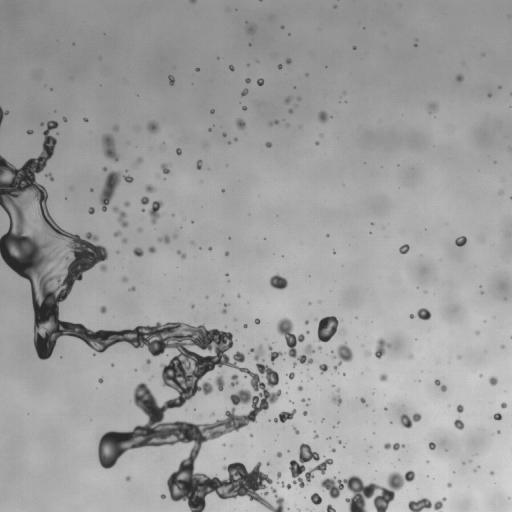droplet: (289, 443, 333, 487), (317, 316, 339, 342), (333, 343, 353, 369), (374, 338, 390, 358), (400, 413, 421, 428), (269, 274, 287, 289), (268, 346, 282, 363), (417, 308, 431, 320), (147, 121, 159, 133), (215, 375, 224, 391), (310, 493, 321, 505), (454, 418, 464, 430), (318, 111, 328, 122), (455, 236, 466, 246), (331, 394, 341, 405), (236, 118, 245, 129), (157, 235, 169, 243), (230, 374, 238, 386), (428, 102, 437, 112), (160, 164, 169, 174), (399, 244, 409, 253), (133, 247, 143, 256), (319, 364, 328, 373), (145, 184, 155, 192), (489, 376, 497, 385), (325, 504, 335, 511), (141, 196, 149, 204), (493, 413, 502, 420), (168, 75, 174, 85), (247, 26, 255, 33), (196, 160, 202, 169), (456, 74, 463, 81), (241, 89, 248, 96), (46, 173, 53, 180), (287, 372, 294, 379), (380, 374, 387, 381), (456, 405, 463, 412), (148, 246, 156, 252), (429, 442, 435, 450), (257, 78, 263, 85), (88, 207, 94, 214), (100, 306, 106, 313), (100, 265, 106, 271), (176, 148, 181, 155), (114, 231, 121, 236), (286, 58, 291, 64), (285, 97, 290, 103), (265, 142, 271, 147), (136, 158, 142, 163), (129, 286, 135, 291), (254, 318, 259, 324), (364, 350, 370, 355), (501, 402, 506, 408), (276, 452, 282, 457), (229, 65, 234, 70), (245, 78, 250, 83), (124, 201, 129, 206), (122, 238, 127, 243), (122, 276, 127, 281), (360, 398, 365, 403), (27, 130, 33, 134), (277, 472, 281, 478), (278, 64, 282, 69), (409, 314, 414, 318), (146, 359, 150, 364), (297, 386, 302, 390), (314, 433, 318, 438), (126, 476, 130, 481), (160, 494, 165, 498), (242, 106, 246, 110), (210, 109, 214, 113), (114, 126, 118, 130), (315, 141, 319, 145), (103, 167, 107, 171), (317, 346, 321, 350), (98, 378, 102, 382), (301, 398, 305, 402), (303, 411, 307, 415), (447, 483, 451, 487), (289, 109, 292, 113), (63, 117, 66, 121), (223, 133, 226, 137), (341, 329, 344, 333), (84, 118, 87, 121), (499, 191, 502, 194), (225, 252, 228, 255), (305, 321, 308, 324), (244, 324, 247, 327), (332, 448, 335, 451), (490, 471, 493, 474), (458, 355, 460, 359), (353, 46, 355, 49), (196, 68, 198, 71), (488, 94, 491, 96), (234, 138, 237, 140), (228, 141, 230, 144), (209, 247, 211, 250), (191, 305, 194, 307), (306, 331, 309, 333), (476, 331, 478, 334), (409, 355, 412, 357), (293, 363, 295, 366), (338, 441, 341, 443), (267, 462, 269, 465), (297, 509, 300, 511), (298, 98, 300, 100), (222, 190, 224, 192), (142, 209, 144, 211), (333, 251, 335, 253), (424, 291, 426, 293), (337, 389, 339, 391), (306, 404, 308, 406), (211, 413, 213, 415), (498, 431, 500, 433), (250, 434, 252, 436)
ligament: (0, 121, 284, 511), (321, 470, 414, 511), (276, 317, 315, 364), (99, 171, 133, 211), (408, 497, 446, 511), (102, 134, 119, 161), (112, 206, 127, 227), (149, 200, 162, 224), (274, 409, 296, 422), (0, 107, 9, 125), (384, 442, 404, 450), (435, 379, 446, 391), (277, 480, 291, 489), (177, 250, 186, 258), (222, 303, 228, 313), (293, 426, 299, 434), (270, 120, 278, 125), (189, 0, 196, 2)
